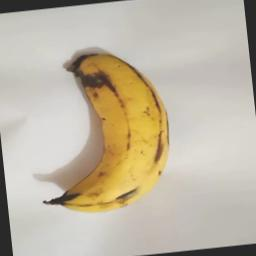Banana Unripe: (35, 30, 181, 230)
